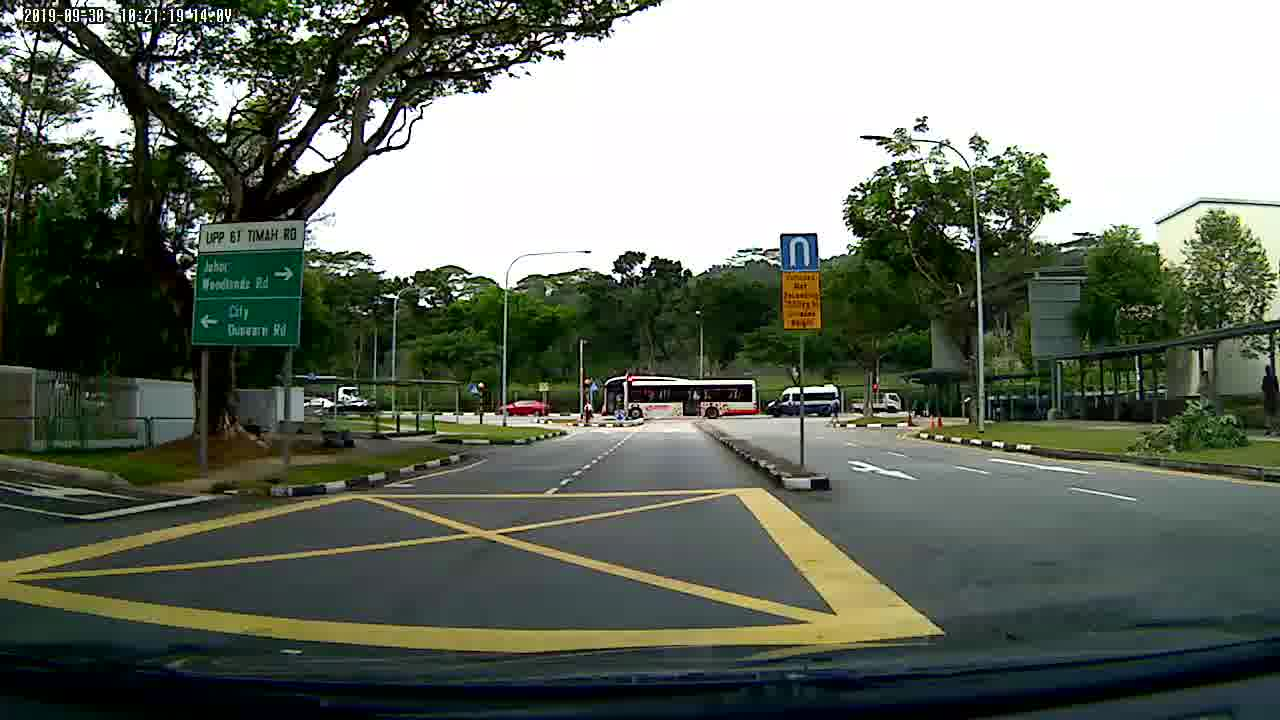bus: (600, 374, 760, 420)
car: (496, 399, 555, 416)
